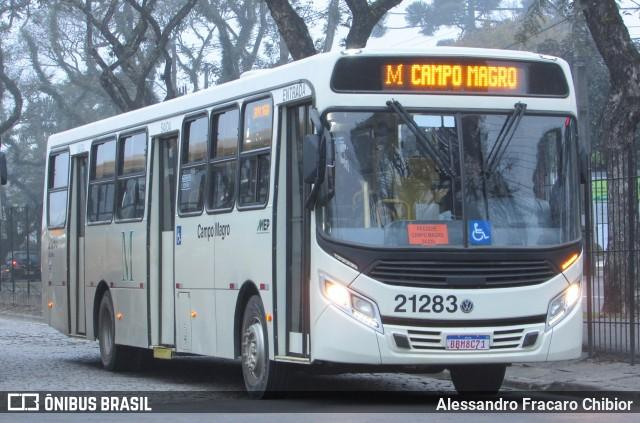CAMPO MAGRO: (408, 61, 521, 94)
